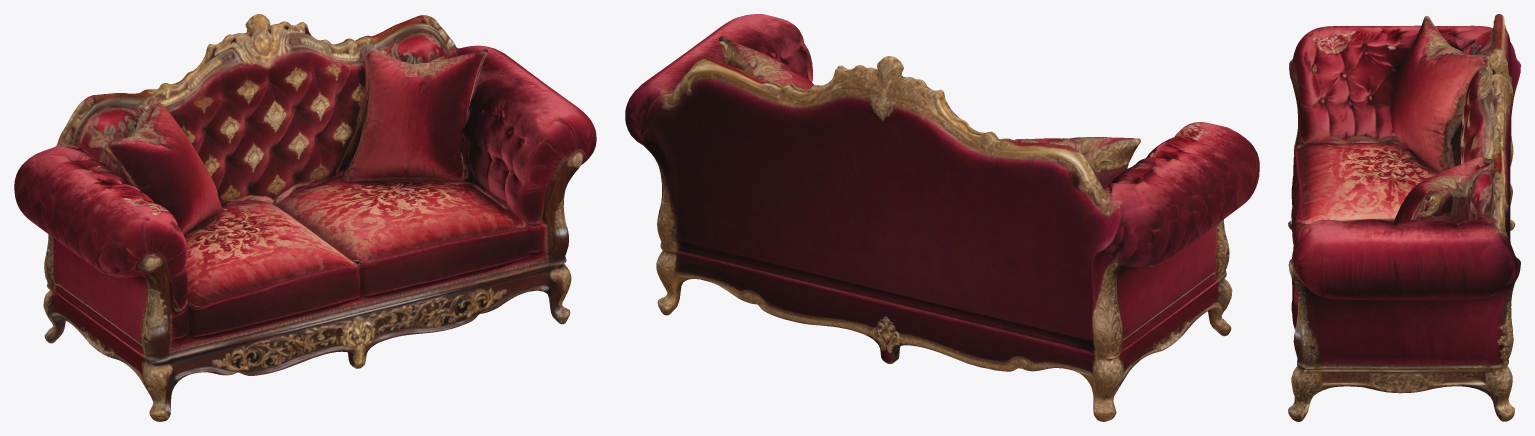
File: sofa.glb
The picture shows the model from 3 angles, left to right: view 1: azimuth 30°, elevation 25°; view 2: azimuth 150°, elevation 25°; view 3: azimuth 270°, elevation 25°; orthographic projection. The views are drawn at different scales.
Parts seen in each view (by area): view 1: Mesh_0_Material_0_0; view 2: Mesh_0_Material_0_0; view 3: Mesh_0_Material_0_0.
Part boxes in pixels (left/top/right/bottom): Mesh_0_Material_0_0: left=14, top=14, right=596, bottom=421; Mesh_0_Material_0_0: left=625, top=14, right=1259, bottom=421; Mesh_0_Material_0_0: left=1288, top=14, right=1520, bottom=421.
Size of the model in its own units: 2.3 by 1.25 by 0.9632.
1 material, 1 textured.
